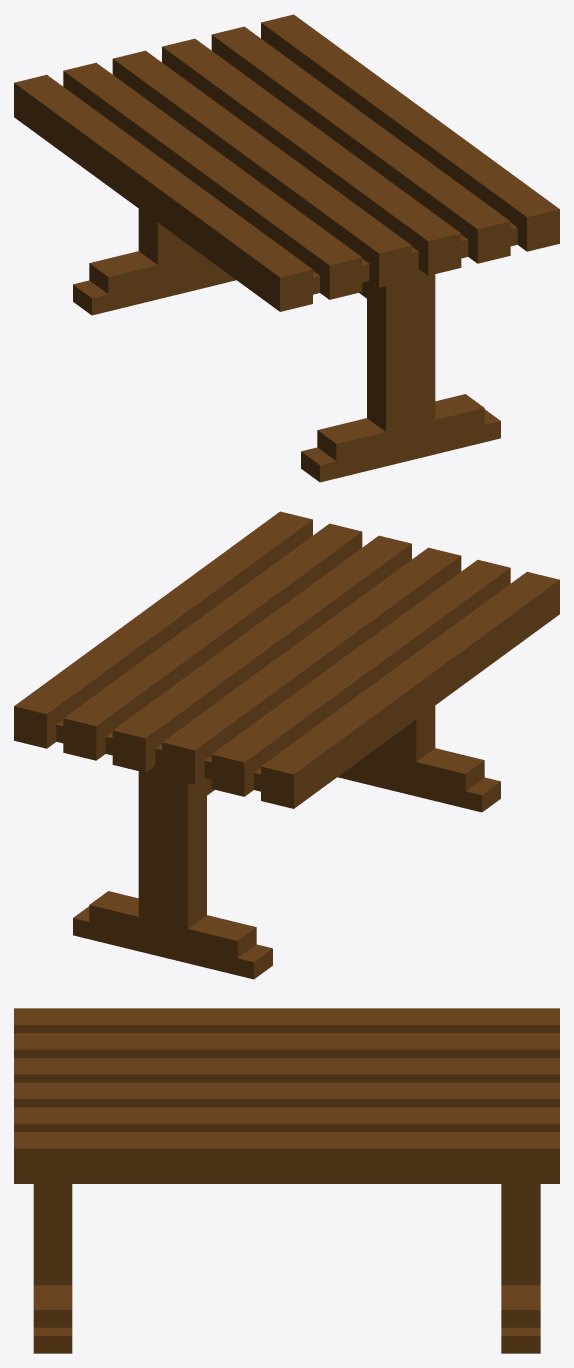
File: park bench-1.obj
The picture shows the model from 3 angles, top to bottom: view 1: azimuth 30°, elevation 25°; view 2: azimuth 150°, elevation 25°; view 3: azimuth 270°, elevation 25°; orthographic projection. The views are drawn at different scales.
Bounding box in the file's own units: 1.7 × 1.3 × 2.8.
Materials: 1 (1 with a texture image).
